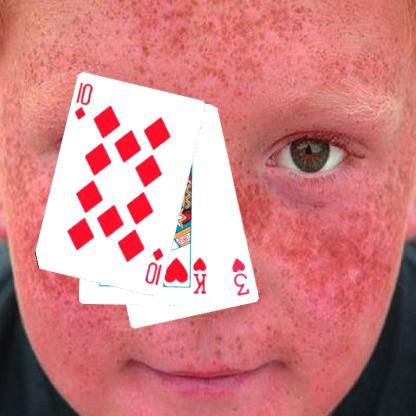10D: (72, 79, 95, 122), (142, 246, 165, 287)
3H: (230, 256, 252, 298)
KH: (191, 255, 208, 295)
